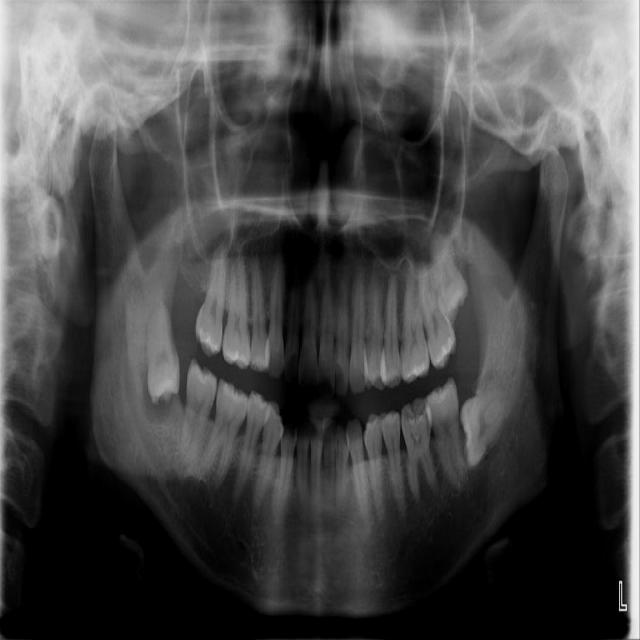Filling: (432, 335, 454, 366), (405, 400, 428, 425), (403, 362, 428, 382)
impacted tooth: (461, 385, 513, 466), (145, 298, 180, 404), (431, 229, 467, 323)
